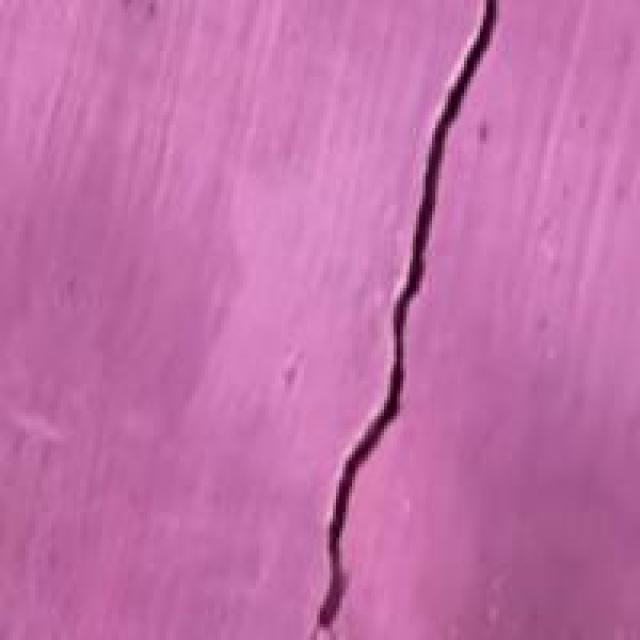Crack: (275, 0, 563, 637)
